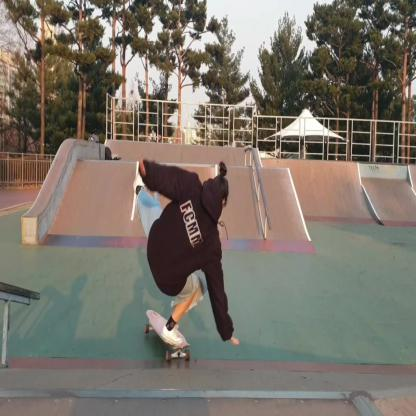Fall_Down: (131, 150, 241, 352)
